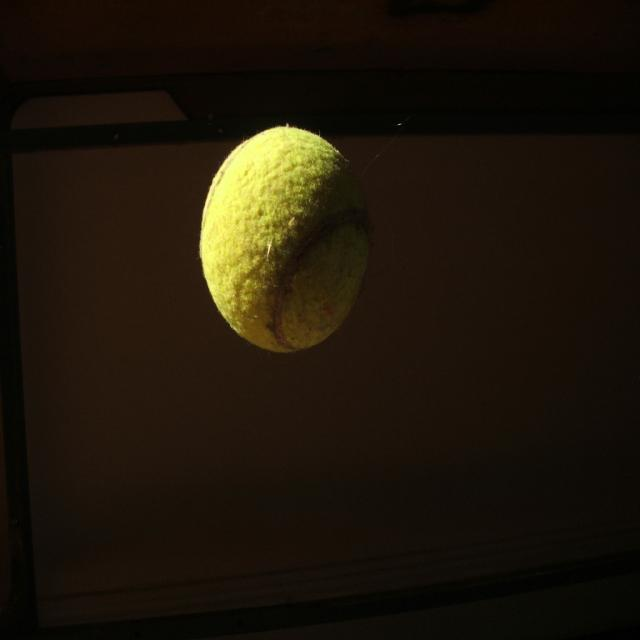Tennis ball: (199, 113, 369, 359)
